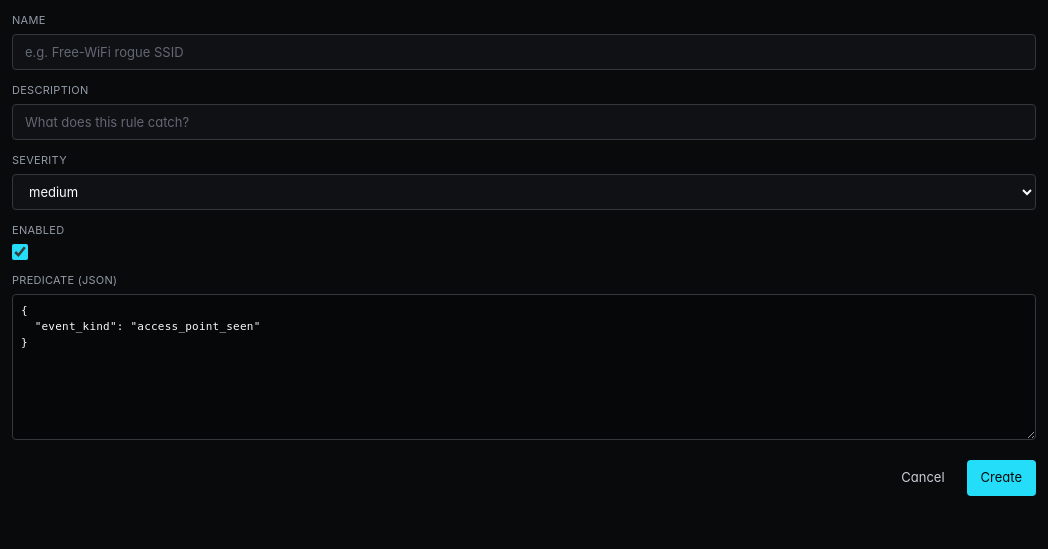
Test: AlertRuleForm › rejects array predicates as non-objects
In the field labelled "Name": (524, 52) 12,34 -> 1036,70, type "X"
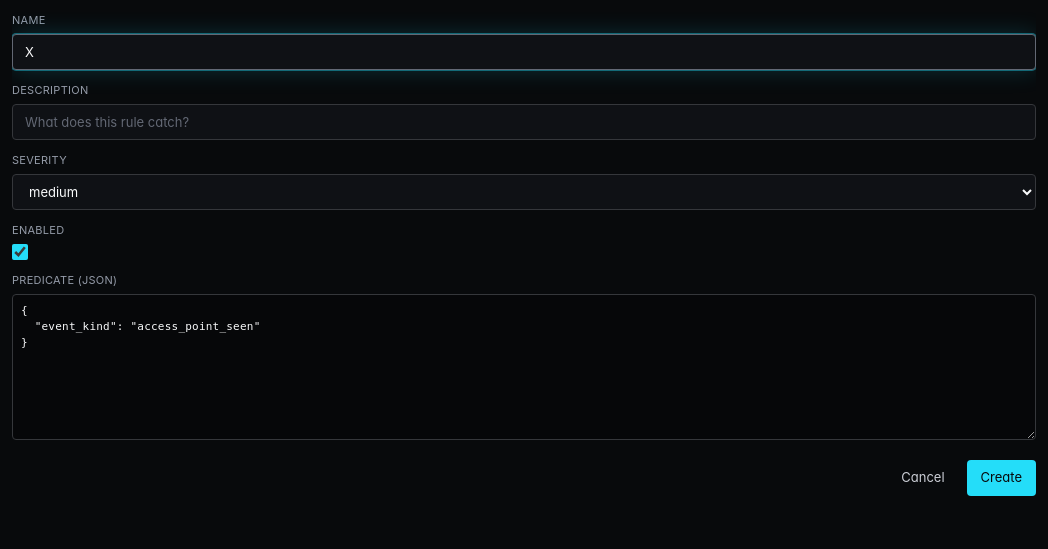
Replace the text in the text box labelled "Predicate (JSON)" with "[1,2,3]": (524, 367) 12,294 -> 1036,440
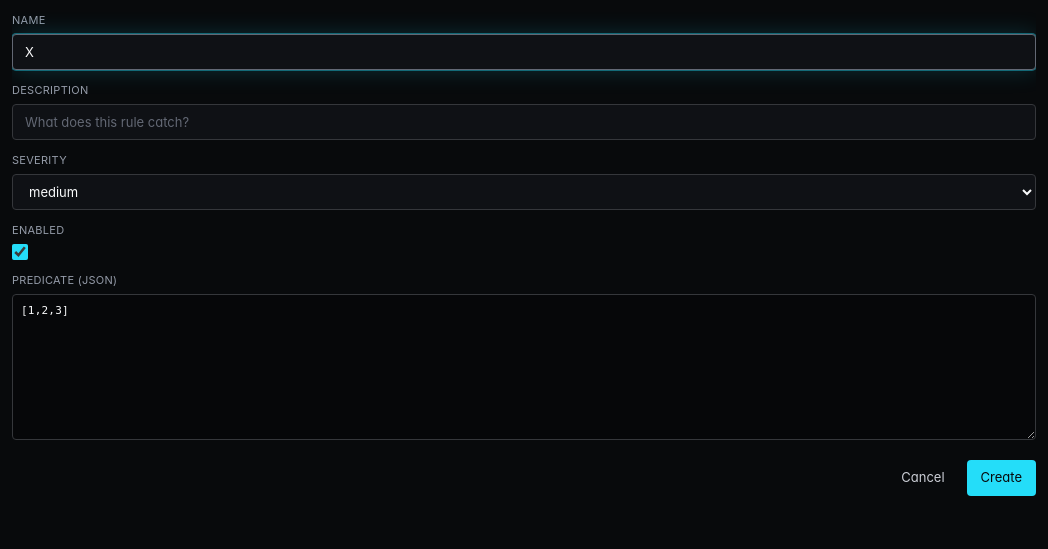
Click the button "Create": (1001, 478) 967,460 -> 1036,496
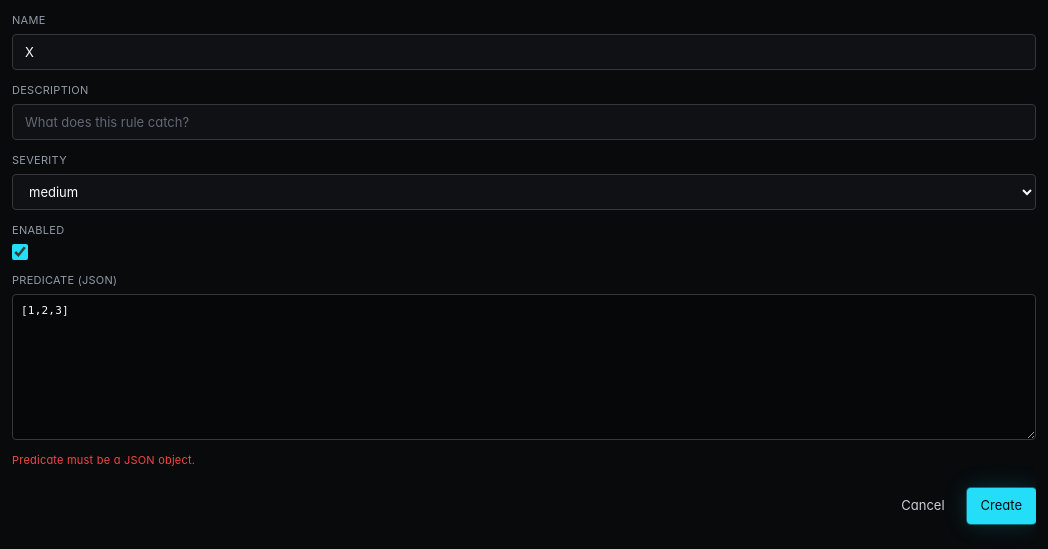
Expected: the text "Predicate must be a JSON object." is shown, 12,453 -> 195,467
